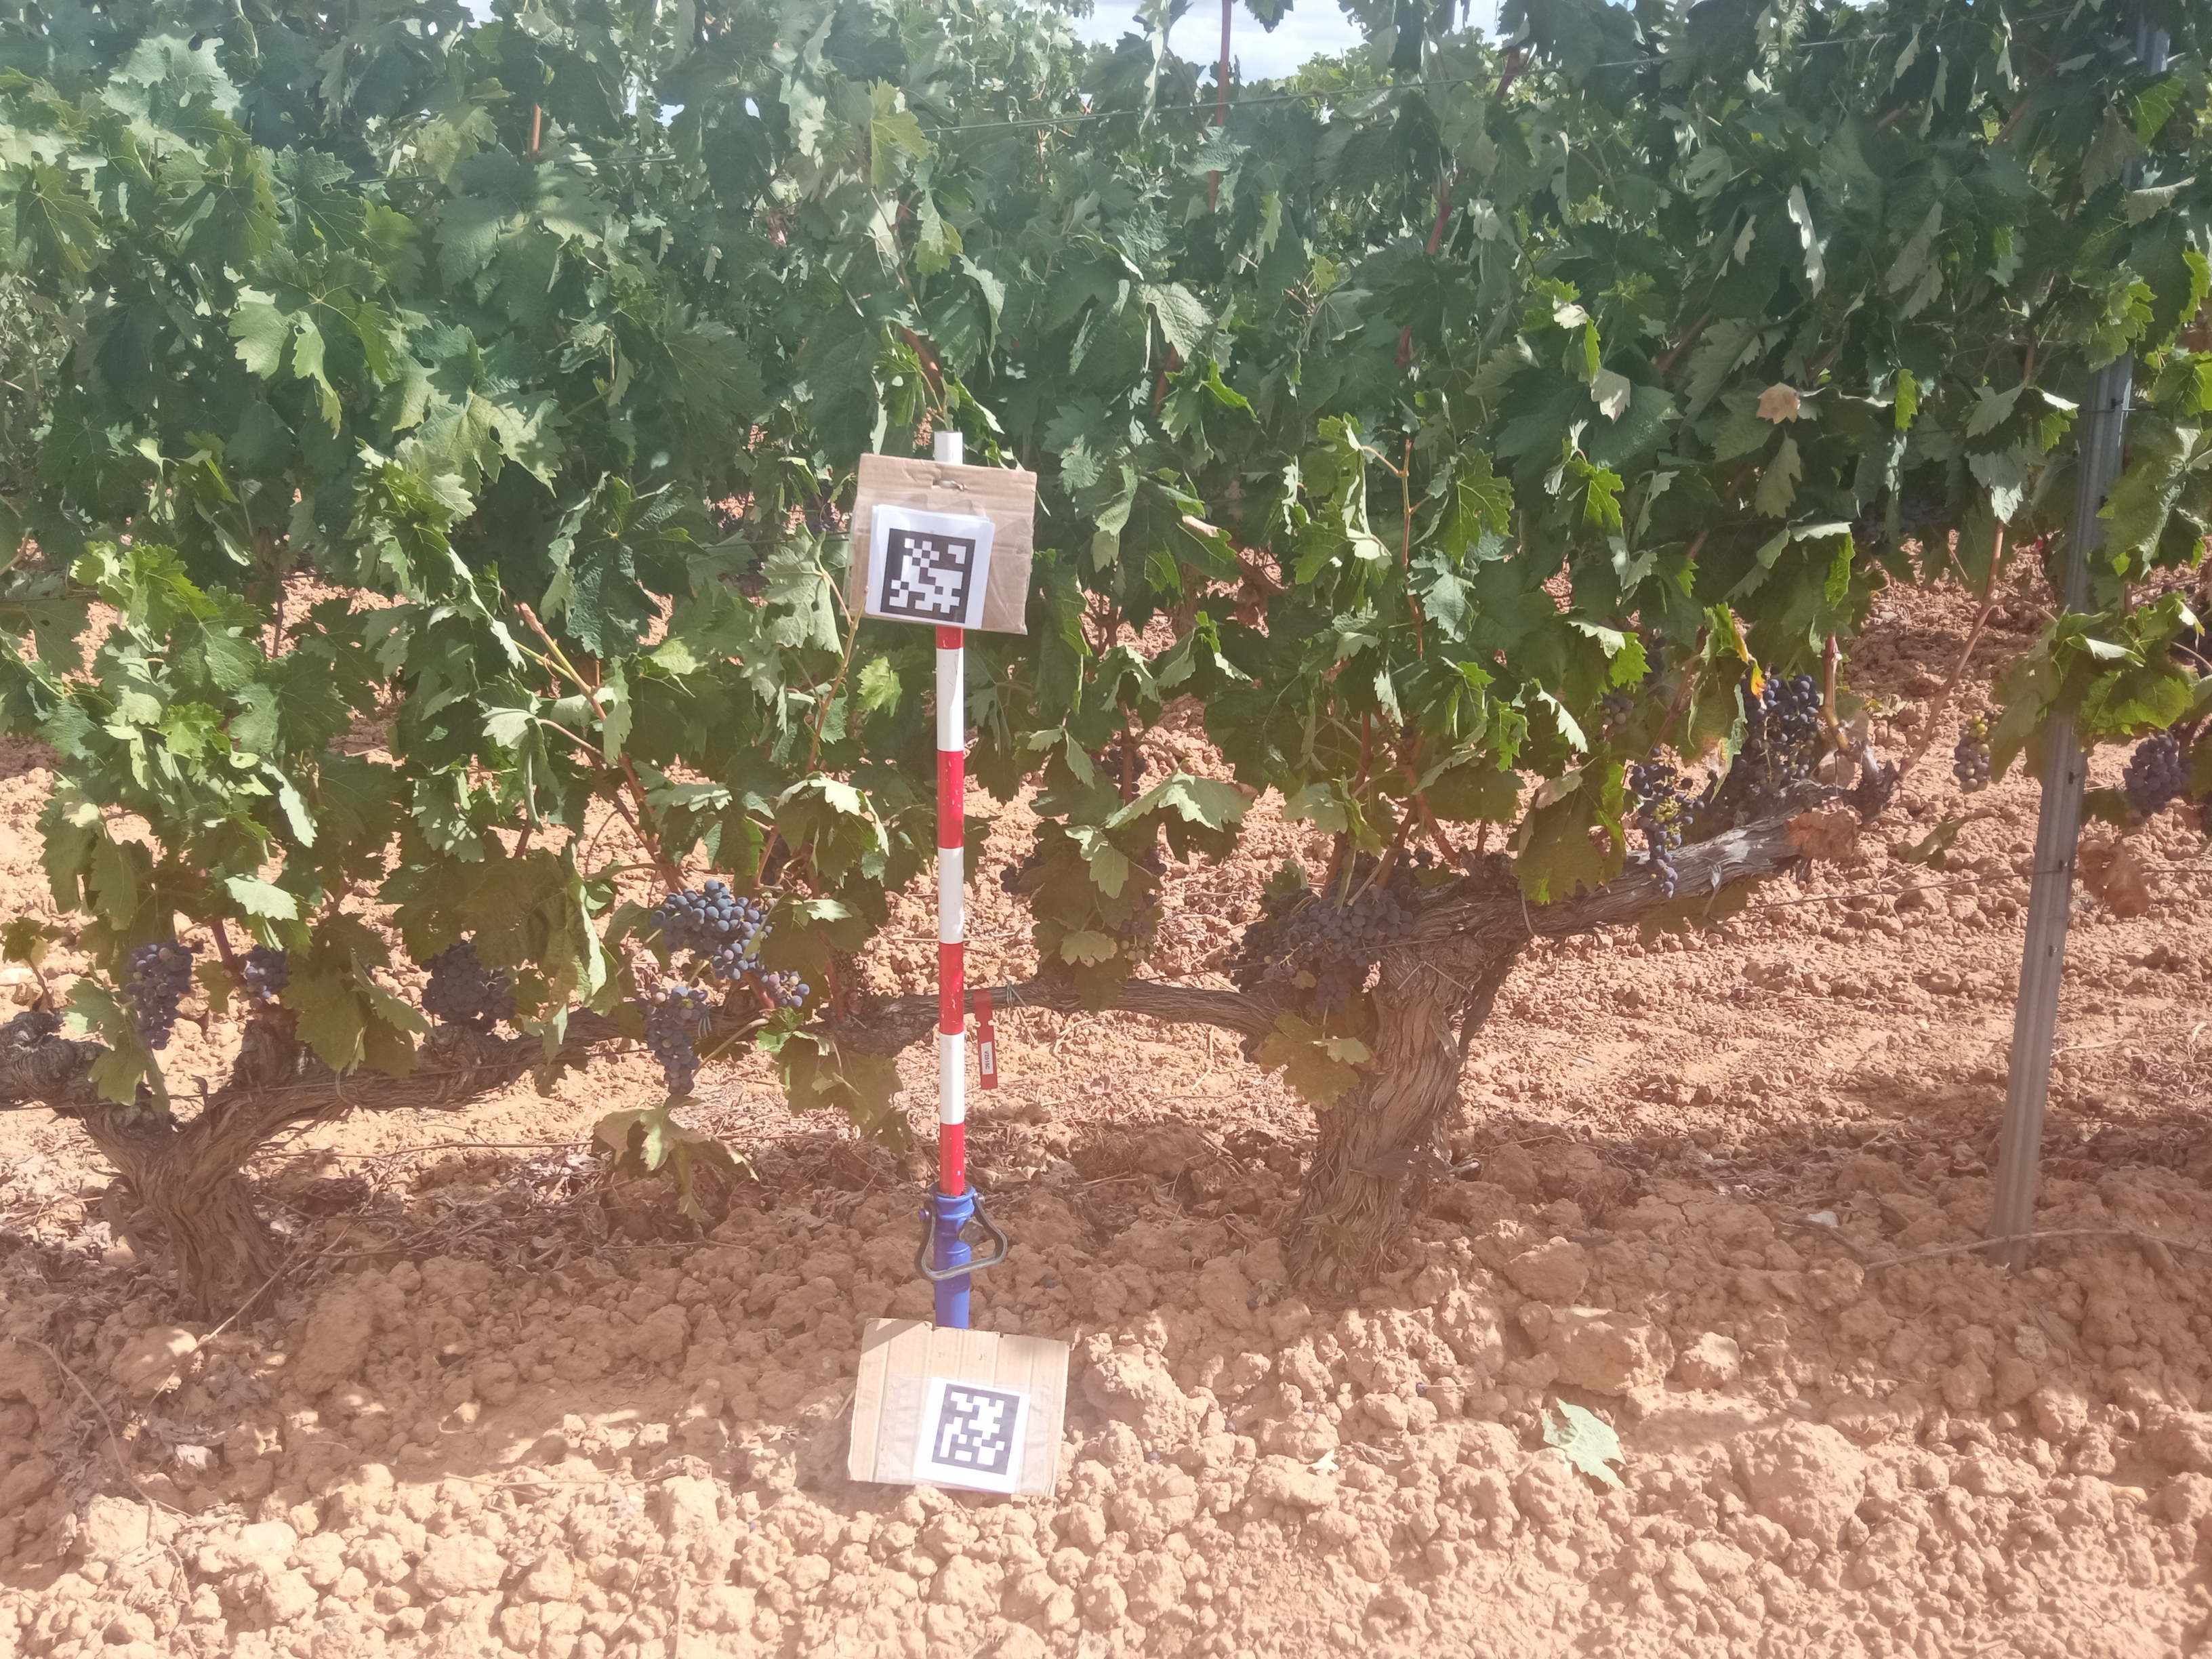grapes: (648, 880, 808, 1006), (1629, 748, 1703, 899), (1733, 669, 1818, 793), (1224, 887, 1313, 992), (1263, 897, 1366, 981), (636, 985, 709, 1093), (421, 939, 517, 1021), (125, 939, 193, 1051), (2123, 735, 2195, 826), (1851, 495, 1952, 556), (1352, 885, 1413, 967), (1120, 857, 1167, 960), (1954, 713, 2000, 793), (1695, 772, 1745, 838), (239, 945, 289, 1009), (1327, 850, 1378, 899), (1386, 847, 1433, 896), (1312, 958, 1352, 1014), (1103, 749, 1146, 800), (2170, 627, 2212, 674), (1644, 636, 1669, 697), (1000, 857, 1038, 896), (1602, 692, 1634, 727), (1378, 723, 1414, 749), (765, 838, 787, 880)
